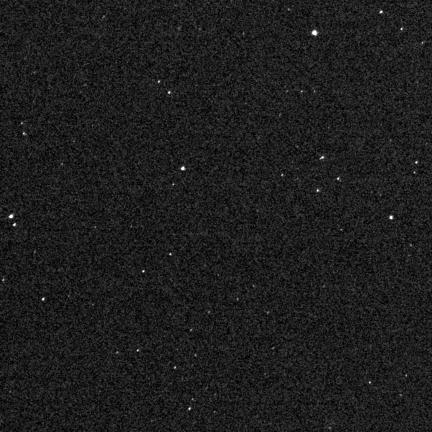blob: (312, 30, 318, 36), (389, 216, 395, 220), (9, 214, 13, 218), (380, 10, 383, 14), (181, 167, 185, 170), (42, 298, 45, 301), (143, 270, 145, 273)
